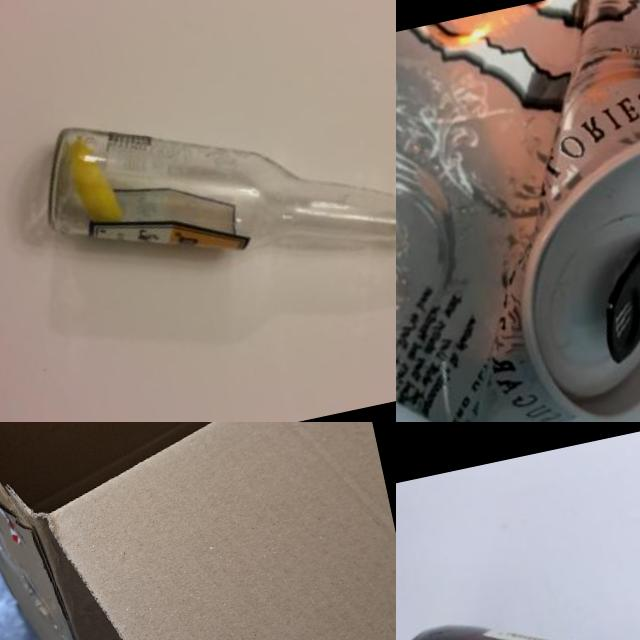aba de lata: (582, 224, 640, 365)
garrafa de vidro: (28, 54, 396, 316), (396, 511, 640, 640)
lata: (396, 0, 640, 422)
papelão: (0, 422, 396, 640)
